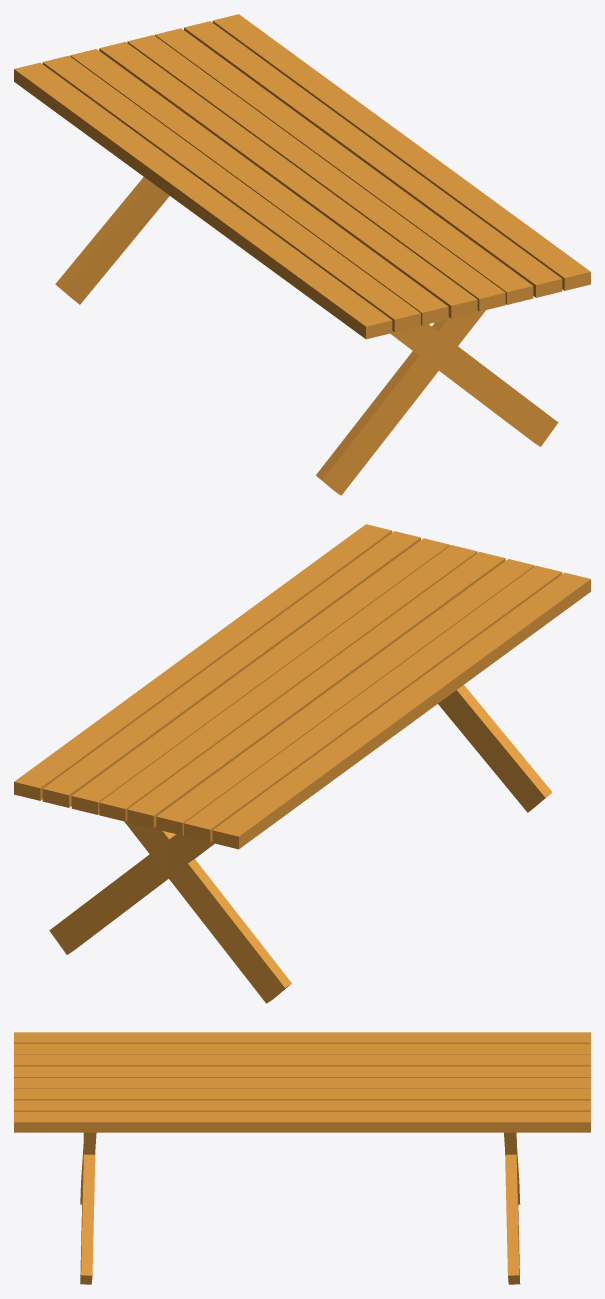
Rendered from table2.fbx.
3 views of the same model, one above another, from view 1: azimuth 30°, elevation 25°; view 2: azimuth 150°, elevation 25°; view 3: azimuth 270°, elevation 25° (orthographic). The views are drawn at different scales.
Parts seen in each view (by area): view 1: Table; view 2: Table; view 3: Table.
Boxes of the visible parts, x1,y1,x2,y2 form: Table: (14,14,590,495); Table: (14,524,590,1003); Table: (14,1032,590,1284).
Size of the model in its own units: 315 by 259 by 815.
